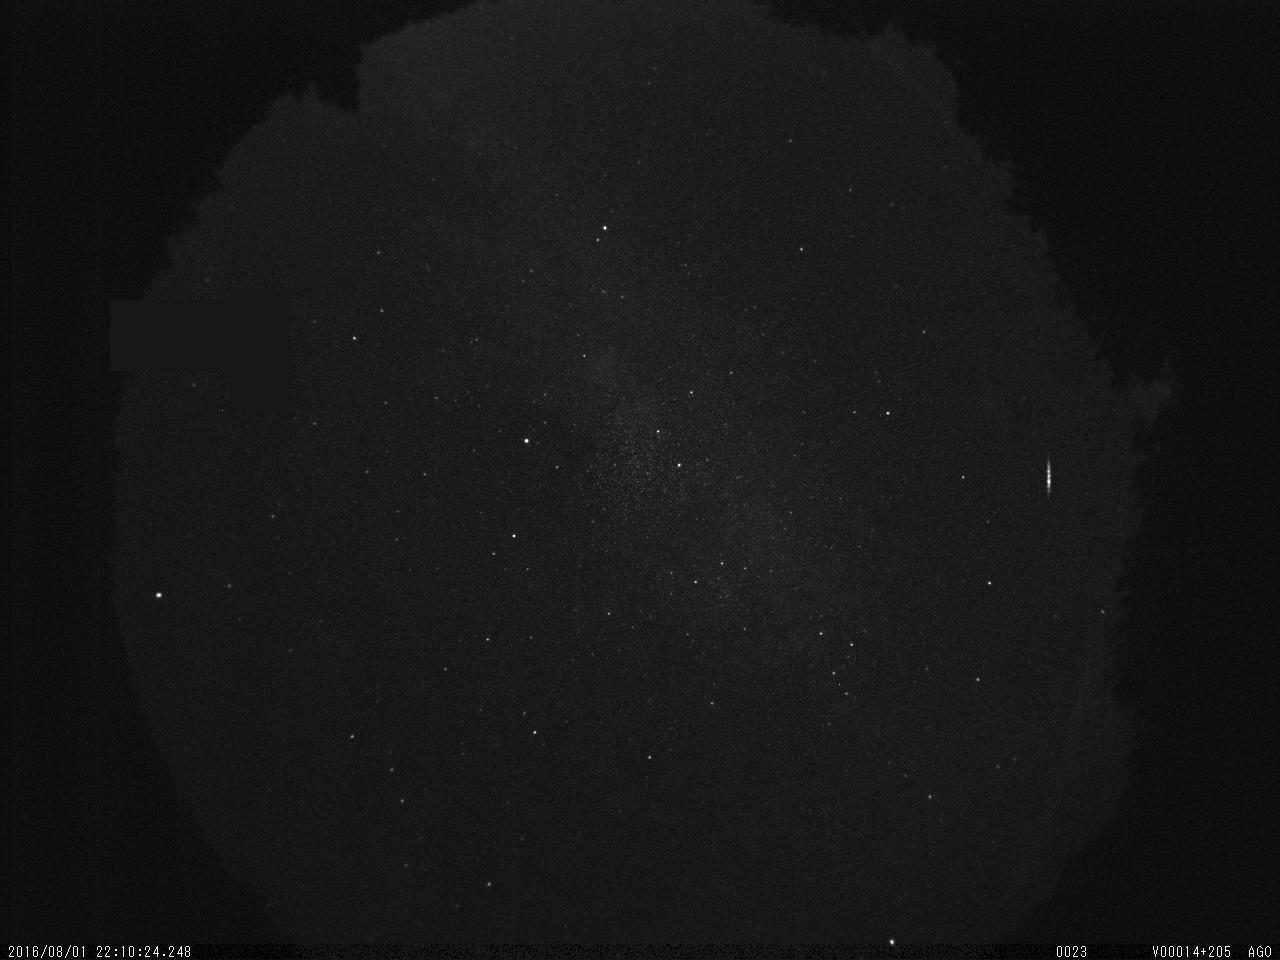meteor: (1037, 441, 1062, 506)
